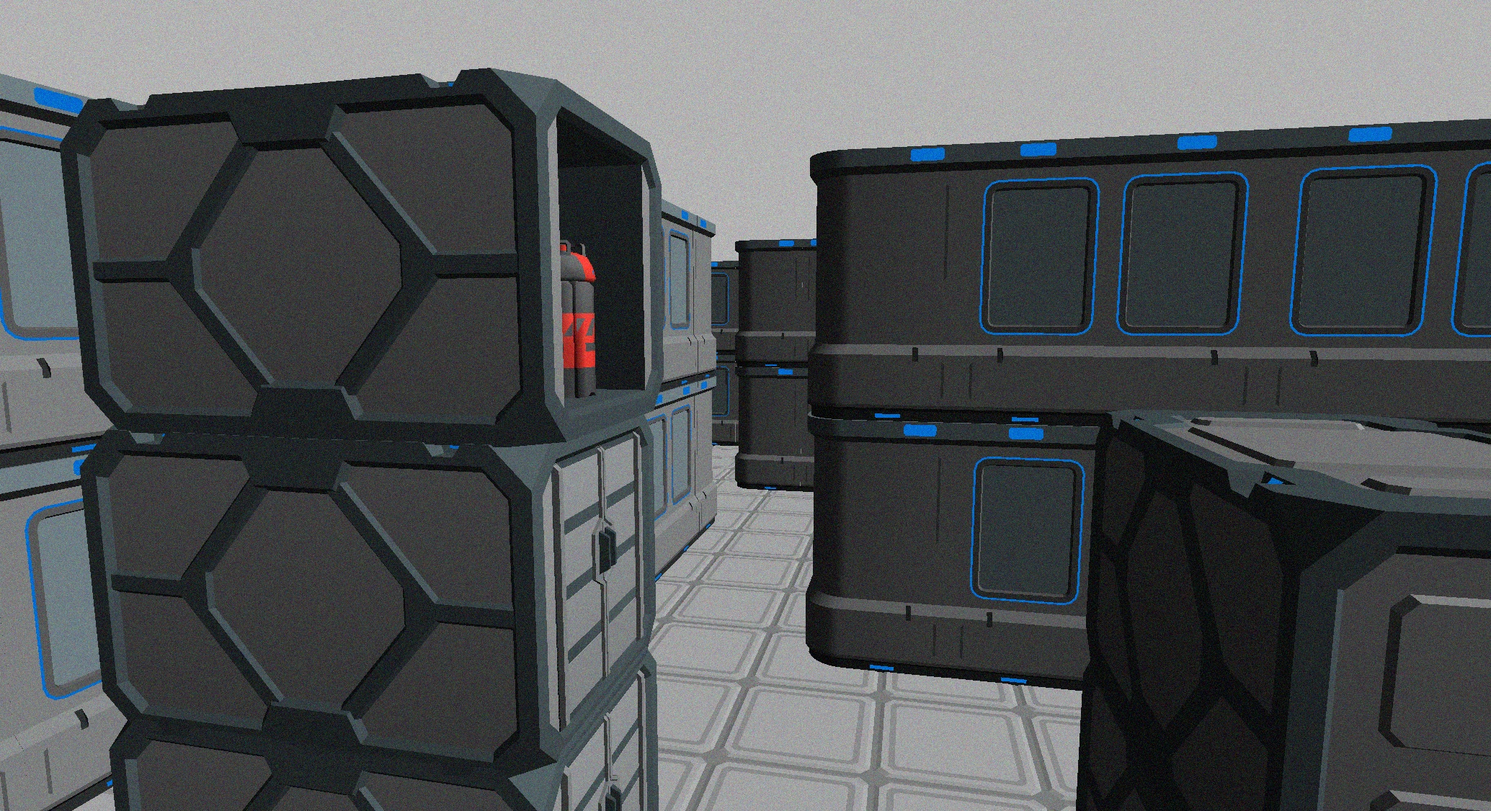red_barrel: (561, 240, 595, 397)
